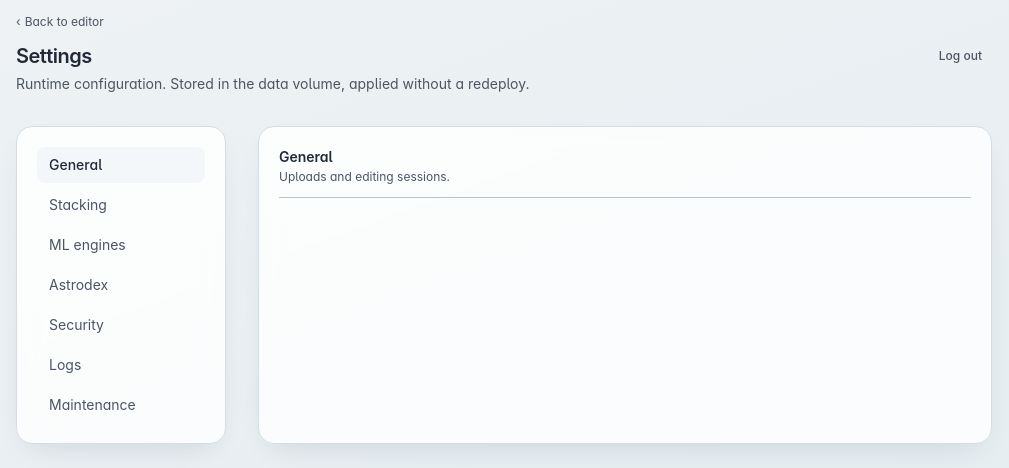
SettingsView › admin gate › logs out from the header
The image size is (1009, 468).
Step 1. Click the button "Log out" → coordinates (960, 56), box [929,42,992,70]
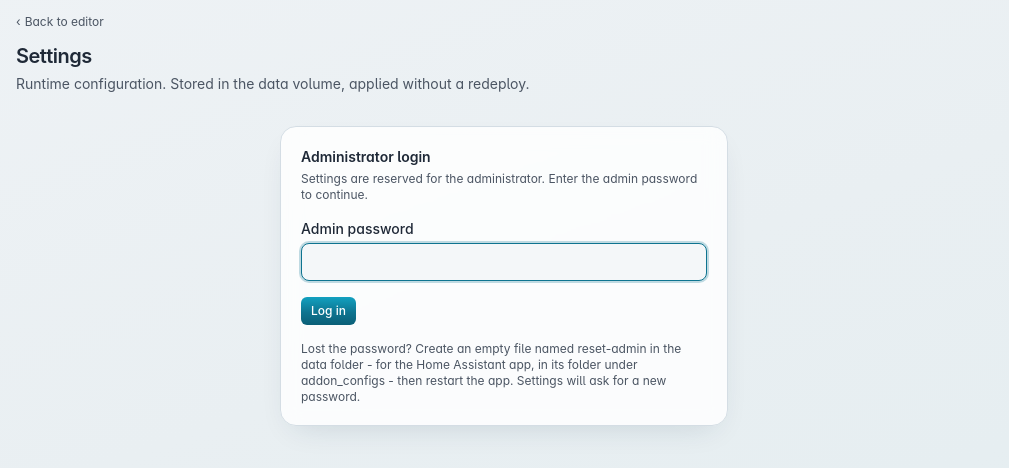
Expected: the heading "Administrator login" is shown, [301,148,431,165]
